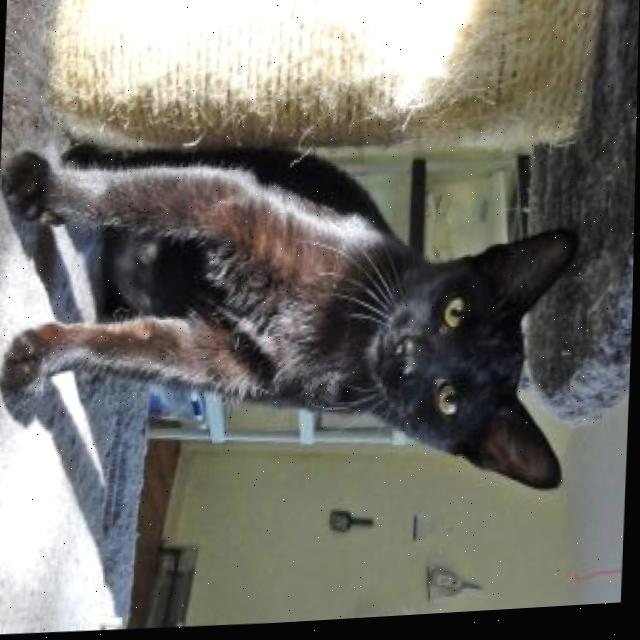Bombay: (0, 108, 597, 528)
